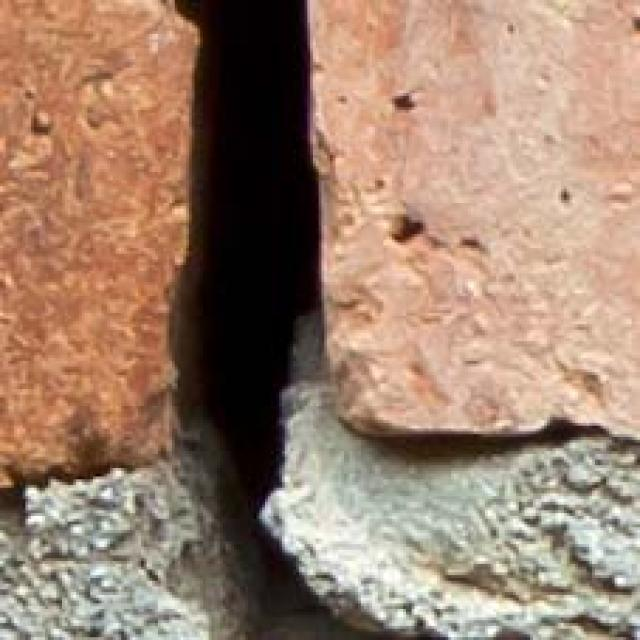Crack: (0, 0, 536, 629)
